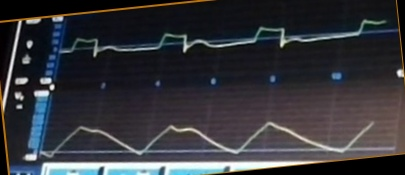Premature_cycling Flow: (63, 17, 388, 70)
Premature_cycling Volume: (43, 118, 375, 159)
